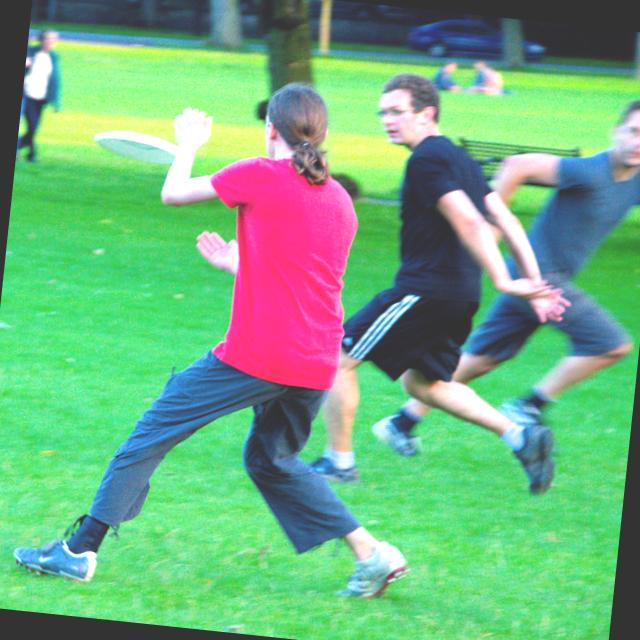Vehicle: (406, 16, 547, 68), (239, 0, 264, 33)
